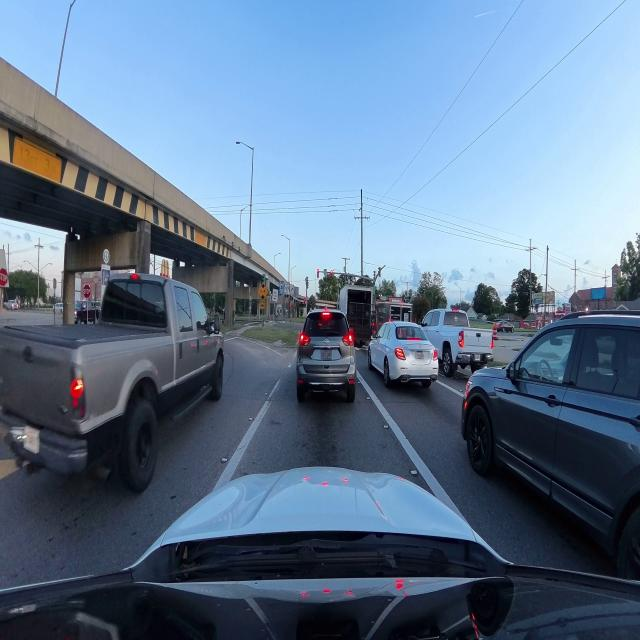car: (0, 273, 223, 491), (462, 312, 639, 579), (297, 309, 356, 402), (422, 309, 493, 377), (368, 322, 438, 387)
